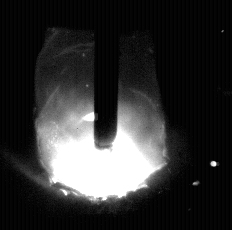arame: (95, 0, 119, 150)
poca: (36, 0, 166, 230)
